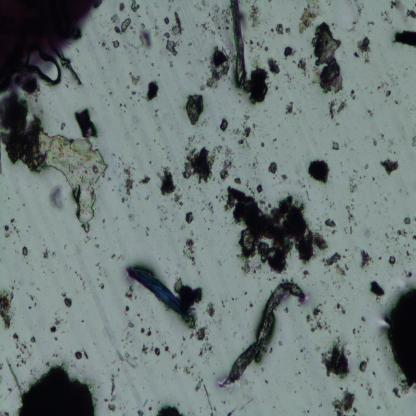Air bubble: (31, 50, 62, 86)
Background material: (0, 94, 109, 235), (225, 183, 330, 275), (8, 360, 98, 416), (385, 286, 416, 396), (312, 23, 344, 93), (194, 5, 233, 41), (320, 336, 350, 380), (183, 145, 216, 185), (207, 43, 230, 90), (246, 65, 272, 106), (162, 12, 184, 58), (174, 276, 203, 308), (387, 230, 416, 262), (59, 48, 84, 85), (298, 1, 323, 35), (305, 305, 333, 335), (74, 108, 99, 140), (332, 384, 356, 416), (186, 92, 206, 128), (0, 290, 17, 332), (233, 112, 253, 146), (156, 166, 177, 198), (325, 251, 348, 280), (12, 331, 30, 367), (124, 306, 143, 340), (194, 330, 214, 362), (307, 157, 330, 184), (141, 327, 161, 358), (183, 363, 205, 390), (49, 311, 68, 342), (118, 93, 142, 117), (104, 372, 118, 412), (114, 346, 139, 368), (353, 38, 372, 66), (327, 96, 349, 120), (220, 145, 234, 182), (137, 20, 153, 52), (348, 3, 364, 34), (48, 183, 64, 214), (393, 28, 416, 49), (182, 236, 198, 266), (121, 163, 132, 204), (248, 2, 264, 30), (379, 156, 399, 177), (0, 216, 22, 235), (153, 196, 169, 222), (247, 38, 270, 55), (371, 277, 387, 299), (70, 269, 86, 291), (359, 248, 374, 271), (145, 80, 160, 102), (270, 21, 292, 36), (112, 14, 130, 32), (376, 80, 394, 98), (346, 203, 356, 235), (157, 404, 183, 415), (182, 312, 197, 330), (368, 130, 380, 151), (128, 71, 142, 89), (297, 58, 311, 75), (26, 294, 39, 312), (103, 252, 121, 264), (347, 174, 357, 195), (200, 201, 215, 215), (283, 45, 296, 61), (388, 0, 404, 13), (268, 57, 280, 74), (61, 292, 73, 308), (173, 192, 184, 209), (285, 100, 296, 117), (349, 323, 363, 336), (76, 349, 90, 362), (164, 346, 177, 360), (128, 215, 141, 229), (268, 160, 280, 175), (205, 299, 215, 317), (137, 175, 153, 186), (247, 159, 257, 176), (282, 73, 295, 86), (324, 217, 336, 231), (392, 385, 402, 401), (334, 301, 346, 314), (386, 253, 397, 267), (381, 9, 392, 23), (184, 210, 194, 225), (330, 137, 340, 152), (103, 38, 112, 54), (359, 358, 368, 374), (44, 249, 57, 260), (124, 288, 134, 302), (280, 305, 294, 315), (219, 119, 229, 133), (364, 108, 375, 120), (402, 267, 414, 278), (130, 0, 140, 13), (96, 260, 104, 276), (349, 88, 358, 102), (406, 9, 416, 20), (403, 215, 413, 226), (366, 16, 374, 29), (256, 183, 264, 196), (246, 300, 254, 312), (142, 225, 150, 237), (410, 133, 416, 148), (118, 2, 126, 13), (21, 244, 28, 256), (113, 40, 121, 50), (98, 280, 106, 290), (260, 142, 266, 153), (153, 107, 159, 118), (370, 176, 378, 184), (186, 39, 194, 47), (282, 172, 288, 182), (136, 410, 146, 416), (367, 387, 373, 397), (144, 193, 152, 200), (100, 218, 107, 226), (30, 336, 37, 344), (234, 178, 241, 186), (268, 138, 279, 143), (61, 243, 68, 250), (364, 163, 370, 171), (360, 314, 366, 322), (274, 84, 280, 92), (200, 86, 206, 94), (244, 288, 249, 296), (182, 333, 186, 343), (167, 60, 172, 68), (156, 73, 161, 78), (79, 319, 84, 324), (96, 244, 100, 249), (151, 61, 155, 66), (188, 335, 193, 339), (148, 160, 152, 164)
Cellulose filter fibre: (219, 282, 307, 388), (229, 1, 249, 87)
Cotton: (128, 267, 194, 315)
Pen: (0, 0, 97, 90)
